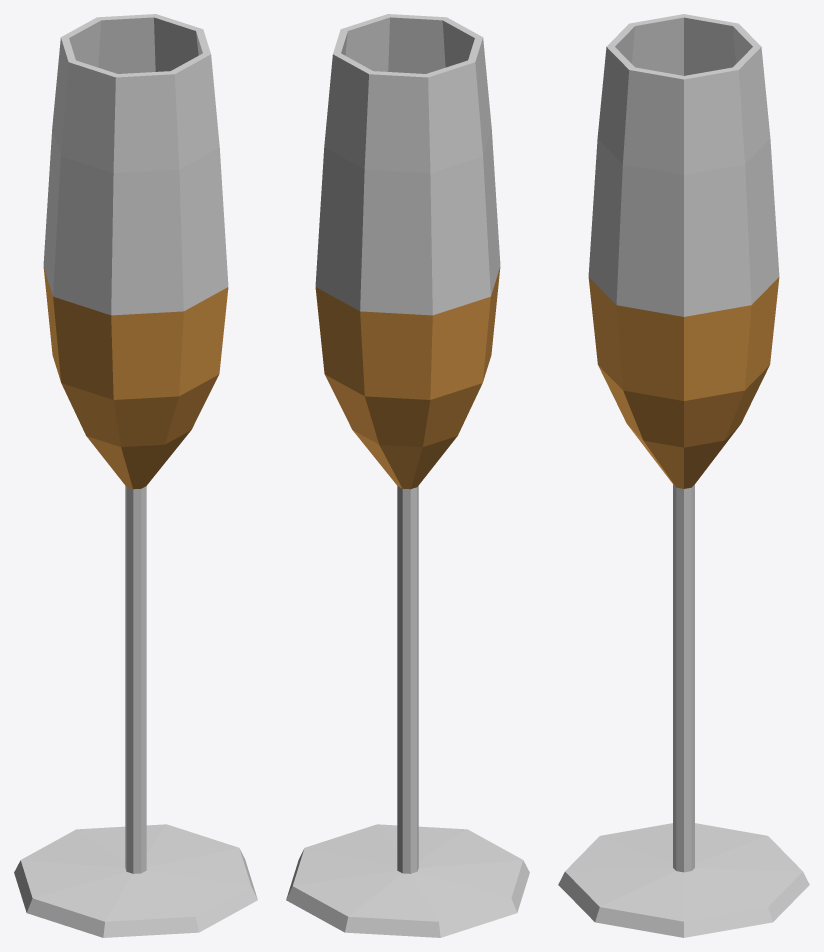
Rendered from Glass_of_Champagne_01.obj.
The picture shows the model from 3 angles, left to right: view 1: azimuth 30°, elevation 25°; view 2: azimuth 150°, elevation 25°; view 3: azimuth 270°, elevation 25°; orthographic projection.
Parts seen in each view (by area): view 1: Glass_of_Champagne_Circle.008; view 2: Glass_of_Champagne_Circle.008; view 3: Glass_of_Champagne_Circle.008.
Boxes of the visible parts, x1,y1,x2,y2 form: Glass_of_Champagne_Circle.008: (14, 14, 257, 937); Glass_of_Champagne_Circle.008: (286, 14, 529, 937); Glass_of_Champagne_Circle.008: (558, 14, 809, 937).
Bounding box in the file's own units: 2.71 × 9.94 × 2.71.
